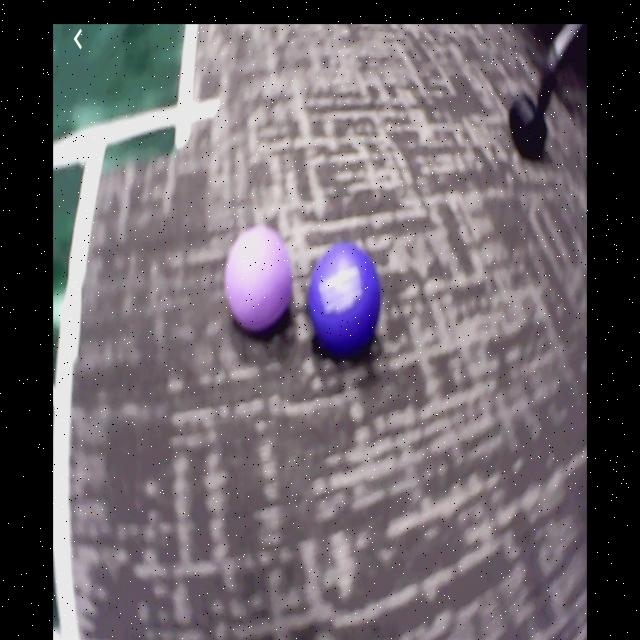ball: (309, 240, 379, 351), (225, 228, 294, 334)
